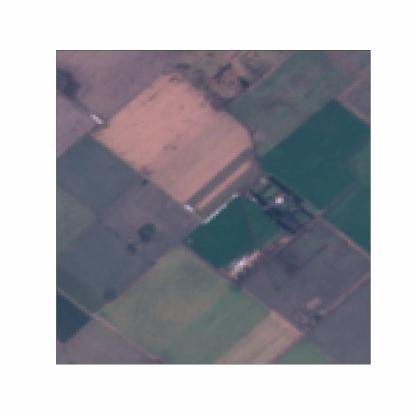silobolsa: (198, 201, 228, 227), (228, 256, 246, 274), (89, 112, 105, 124), (182, 199, 192, 214)
